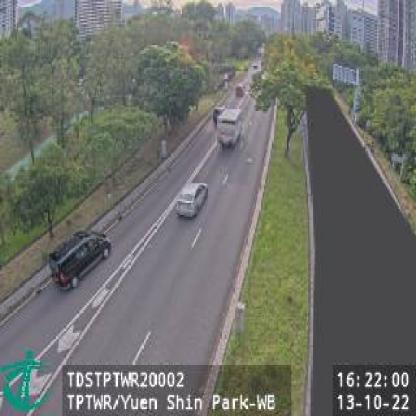Car: (51, 227, 113, 293), (174, 180, 209, 219)
Truck: (218, 107, 244, 152)
